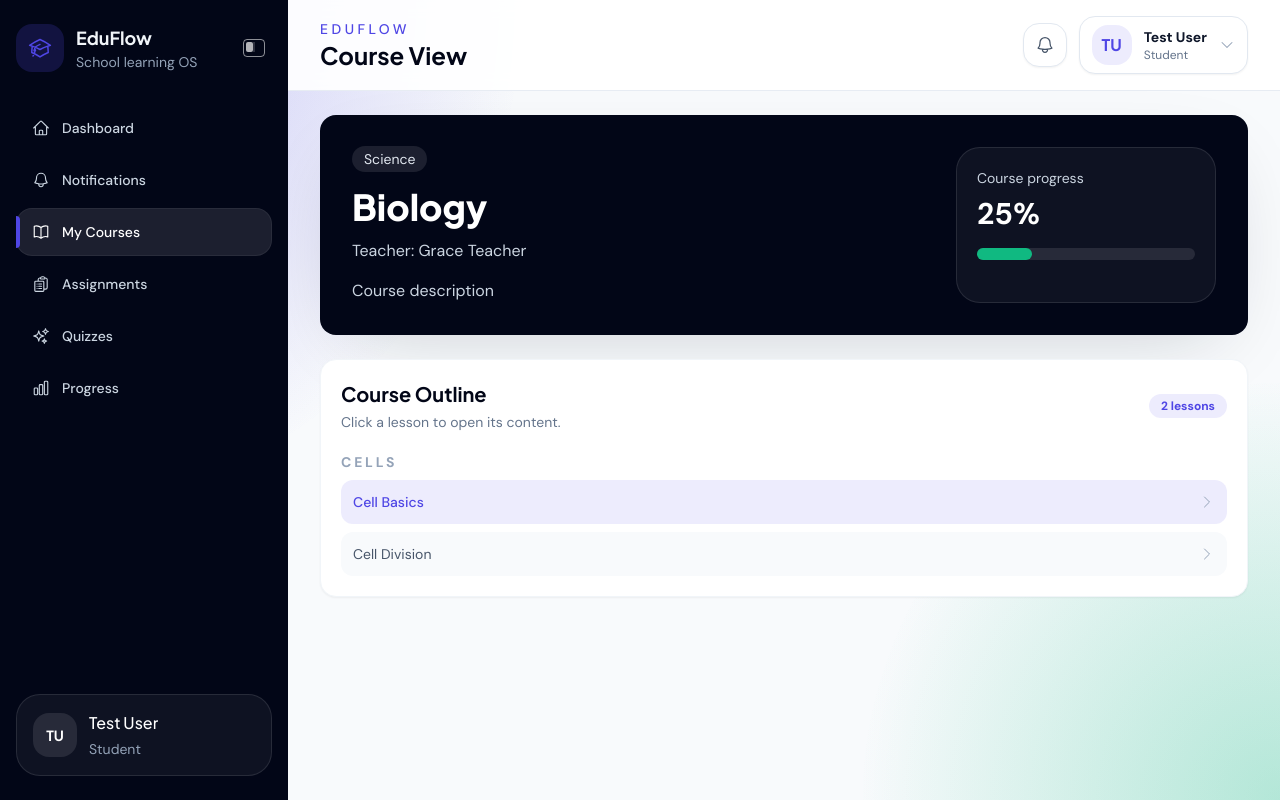
Test: Course pages › desktop course view opens lesson content after clicking a lesson in the outline
This screenshot has width=1280, height=800.
Expected: the text "Click a lesson to open its content." is shown, 341,412 -> 560,432
Expected: the text "Cell lesson content" is not shown
Click the button "Cell Basics". click: (388, 502)
box: 341,480 -> 1227,524
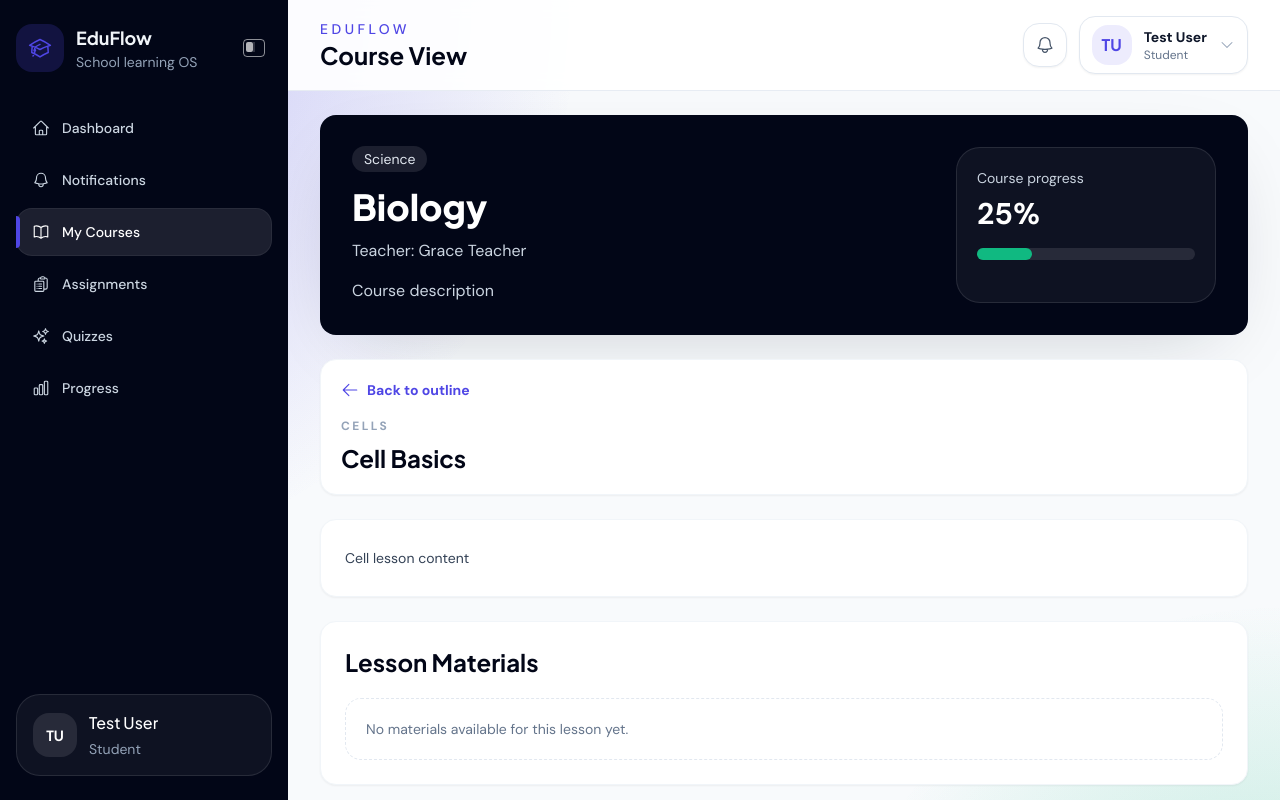
Now the button "Back to outline" is shown, box 341,380 -> 470,400
Now the text "Cell lesson content" is shown, box 345,549 -> 469,567
